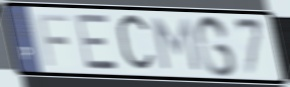7: (233, 15, 265, 79)
C: (114, 11, 158, 76)
E: (73, 13, 121, 71)
F: (35, 12, 71, 69)
G: (193, 13, 239, 79)
M: (150, 16, 202, 74)
